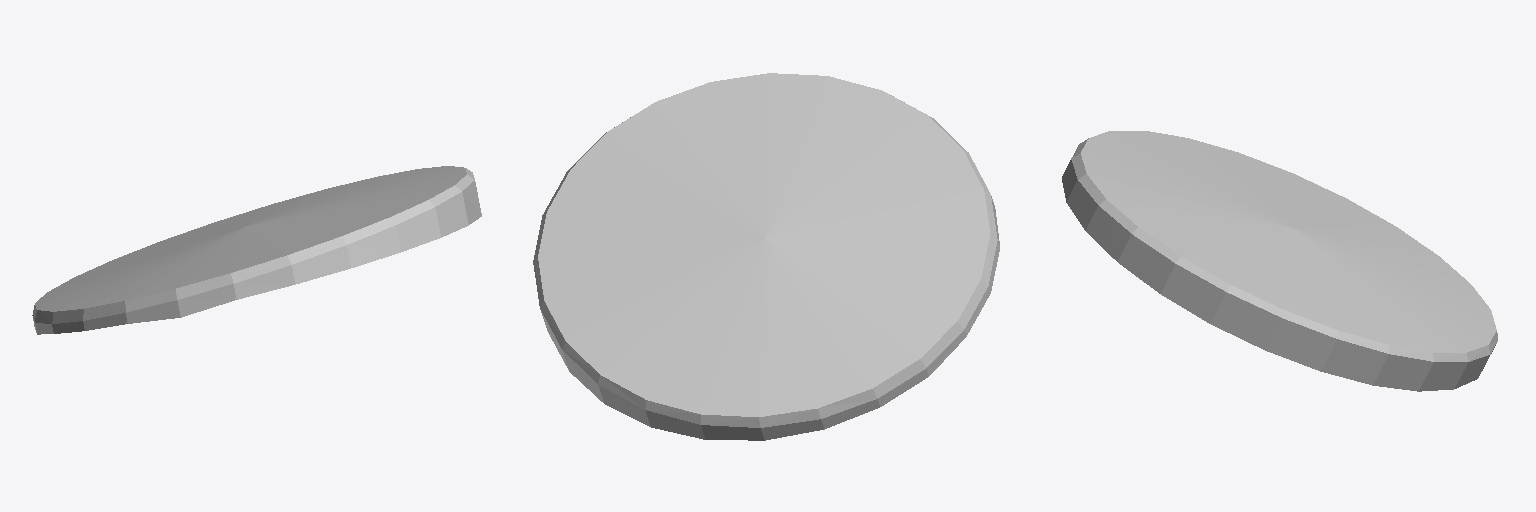
File: left_app_button.obj
3 renders of one model, left to right at view 1: azimuth 30°, elevation 25°; view 2: azimuth 150°, elevation 25°; view 3: azimuth 270°, elevation 25°, orthographic.
Parts seen in each view (by area): view 1: left_app_button; view 2: left_app_button; view 3: left_app_button.
Boxes of the visible parts, x1,y1,x2,y2 form: left_app_button: [32, 166, 481, 334]; left_app_button: [533, 73, 999, 440]; left_app_button: [1062, 131, 1497, 391].
Bounding box in the file's own units: 0.0089 × 0.0042 × 0.0084.